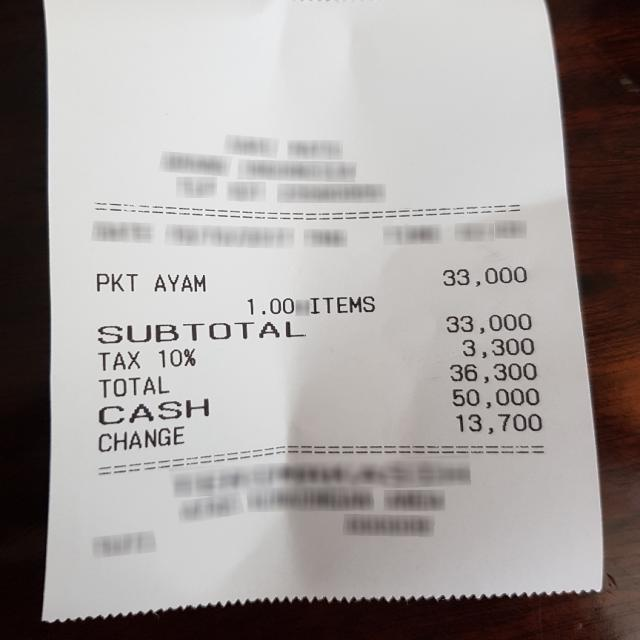kertas: (45, 1, 602, 621)
